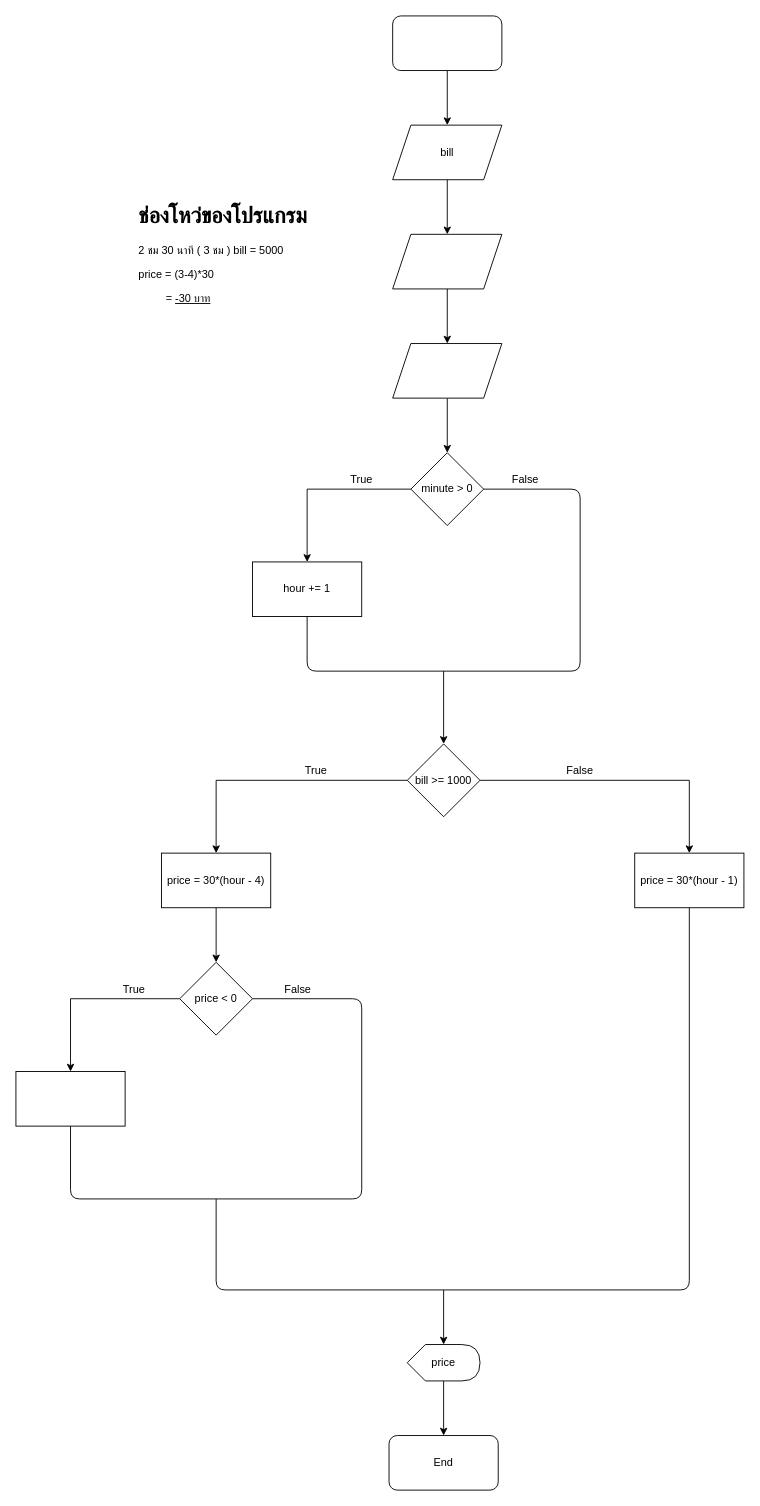
This 760x1506 diagram has some shape labels left out. The centre of each missing label's shape, as x and y in pixels:
hour: [447,261]
minute: [447,370]
price = 0: [70,1098]
start: [447,43]
